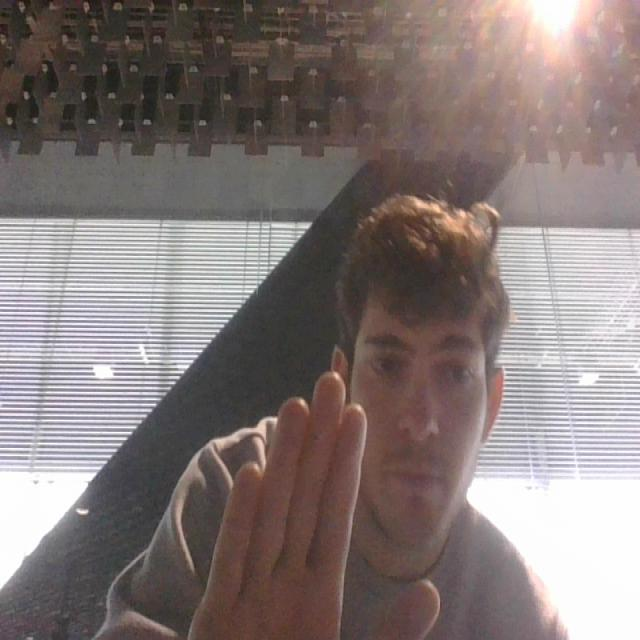backward: (182, 365, 443, 639)
